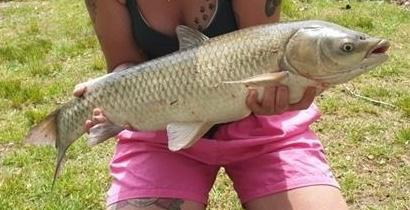Grass Carp: (24, 19, 396, 191)
